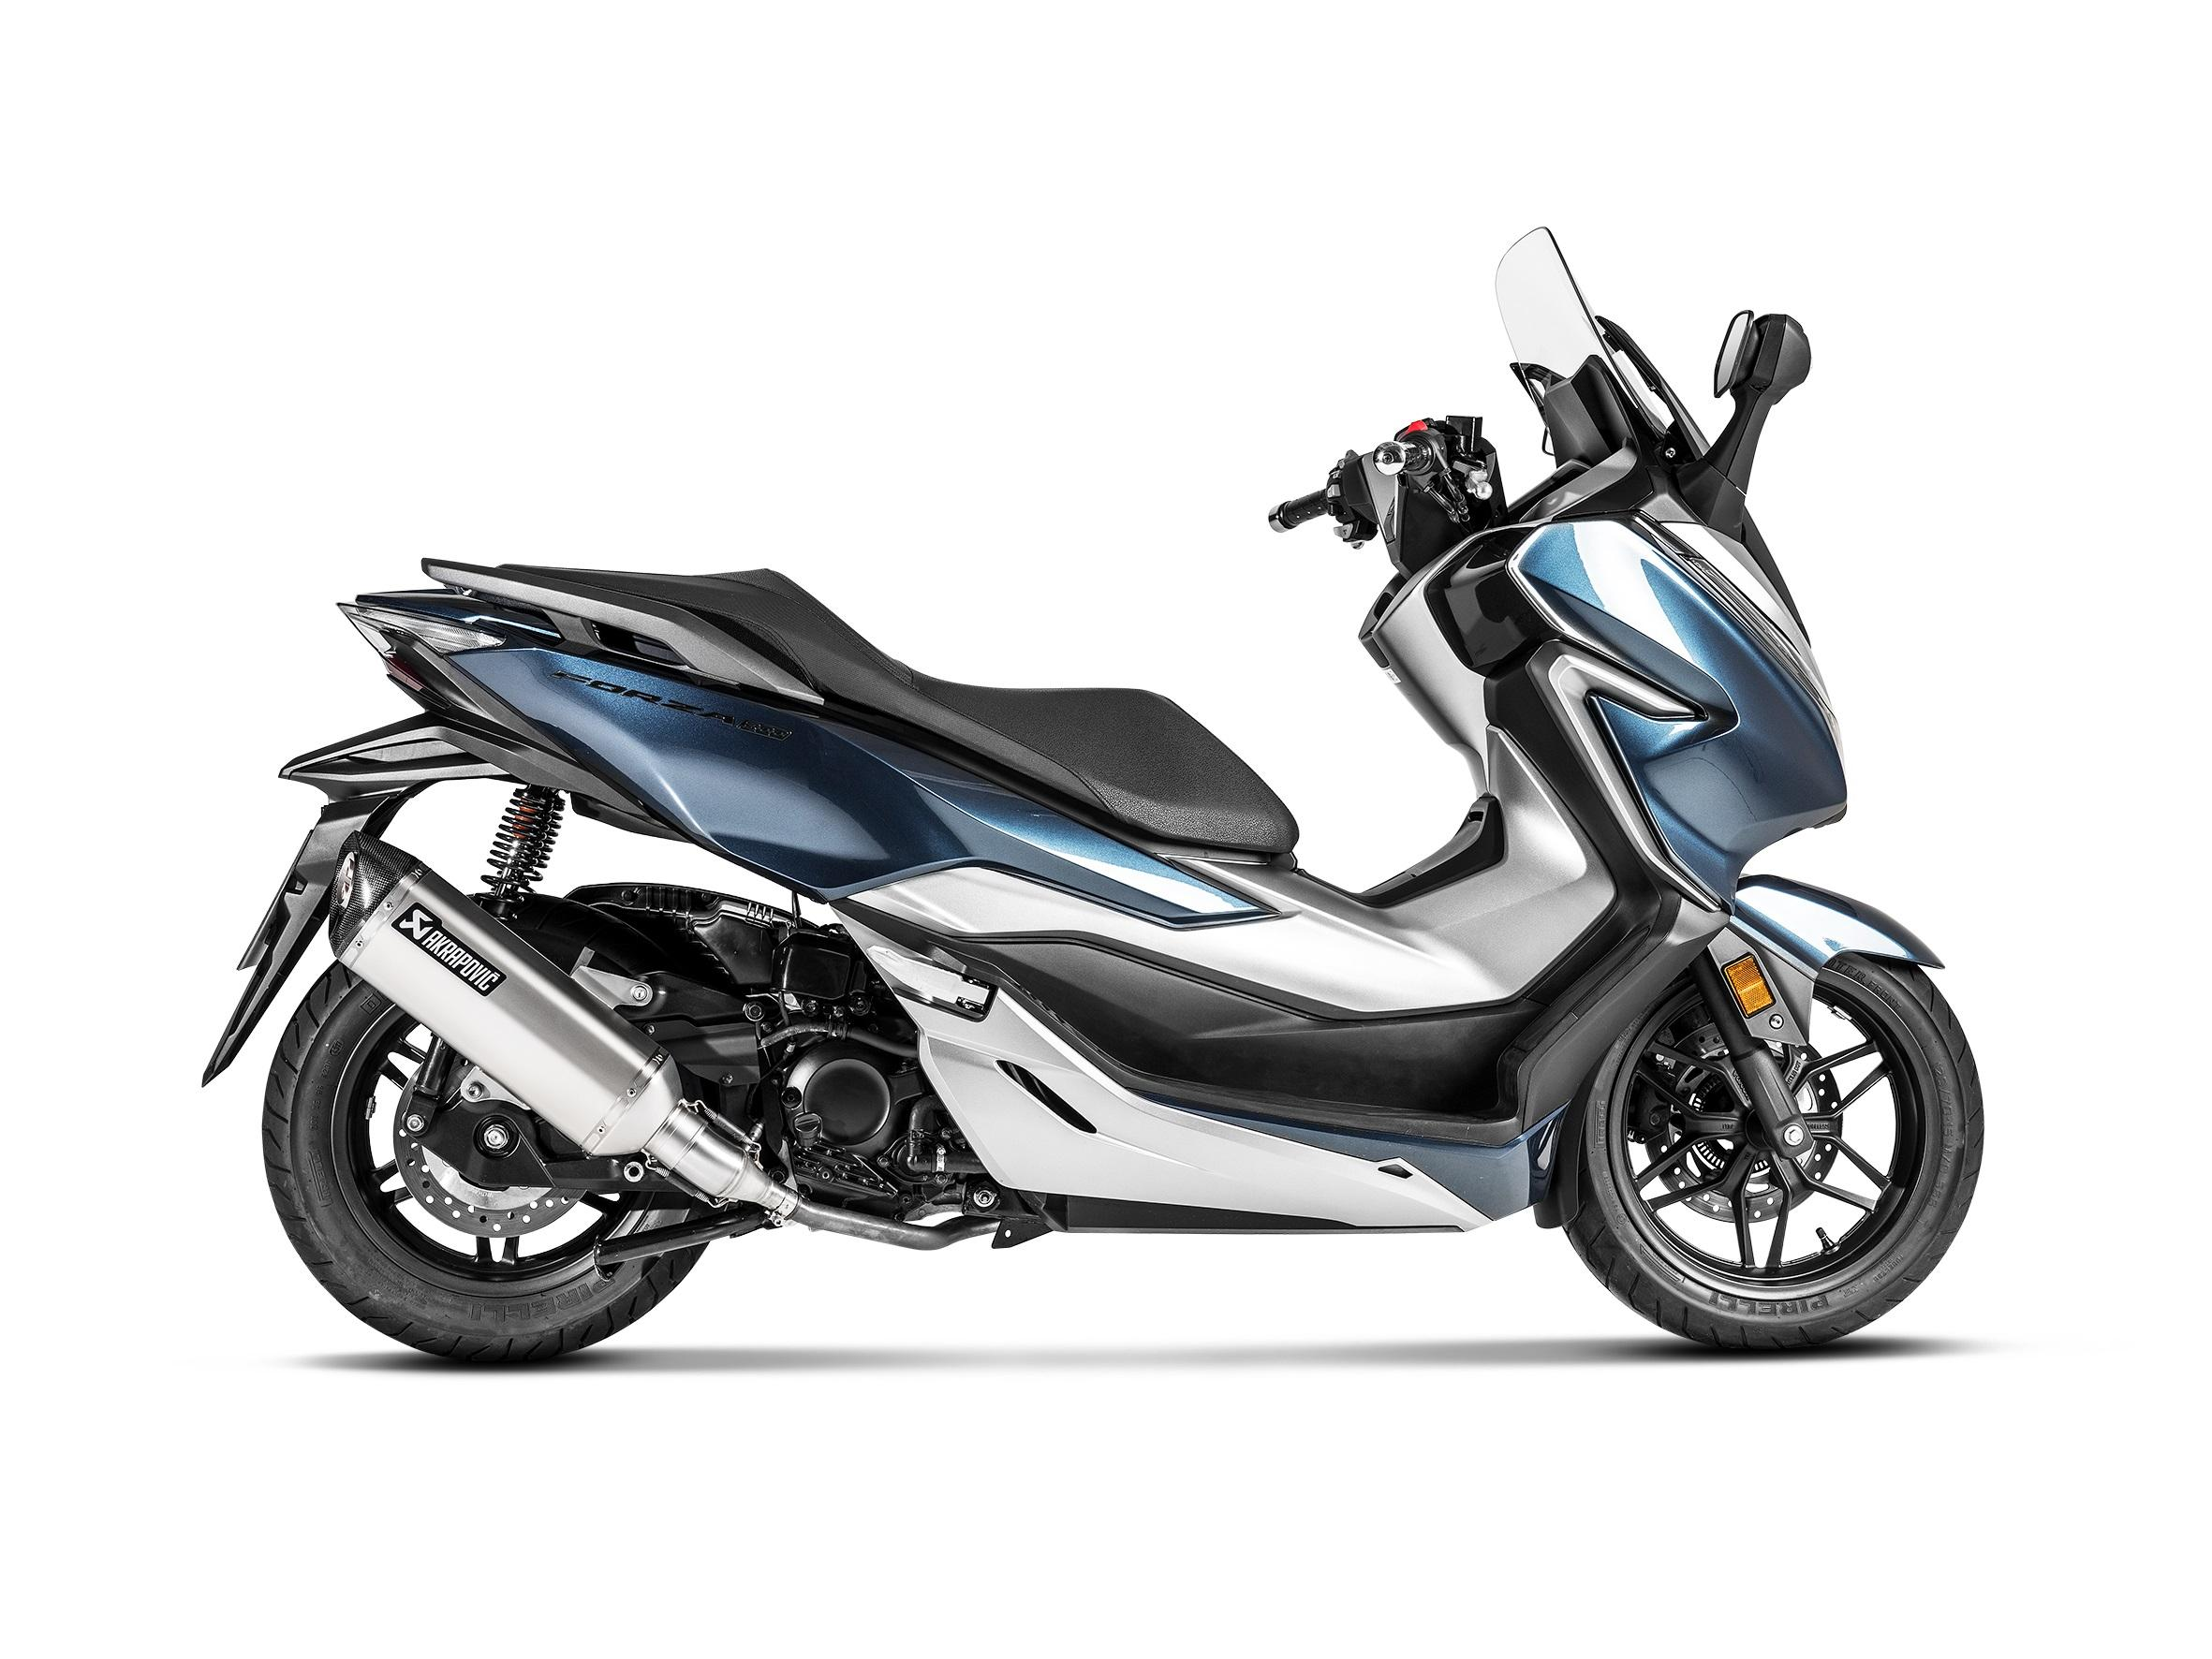engine-chasis: (777, 723, 1618, 1249), (593, 1202, 772, 1283), (472, 784, 567, 924), (399, 1033, 458, 1138)
exhaust: (328, 829, 1002, 1251)
frontside: (1424, 227, 1947, 1230)
handlebar: (1267, 354, 1659, 582), (1672, 310, 1811, 544), (1541, 427, 1555, 457)
motorbike: (204, 225, 1985, 1363)
rearside: (200, 556, 1283, 1192), (411, 1086, 685, 1194), (830, 906, 997, 1023)
seat: (495, 563, 1299, 854)
tank: (1292, 538, 1504, 910)
wheel: (261, 958, 727, 1364), (1562, 953, 1985, 1351), (504, 892, 715, 986)
